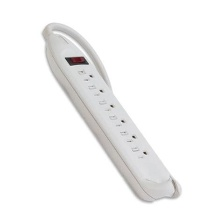three_eye_plug: (41, 27, 179, 205)
